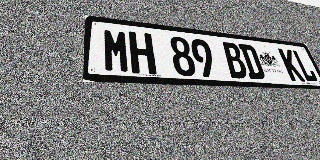8: (168, 36, 197, 76)
9: (189, 38, 218, 77)
B: (221, 42, 249, 79)
D: (238, 44, 266, 80)
H: (128, 31, 157, 75)
K: (278, 48, 305, 81)
L: (291, 50, 319, 82)
M: (103, 28, 131, 73)
